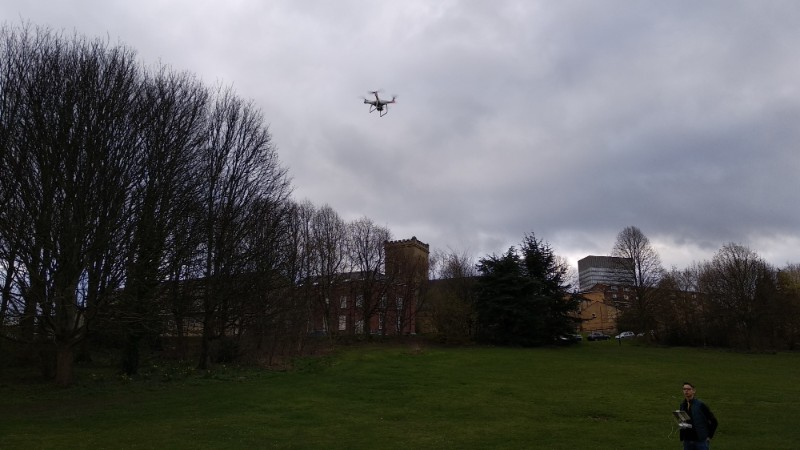drone: (360, 88, 399, 116)
